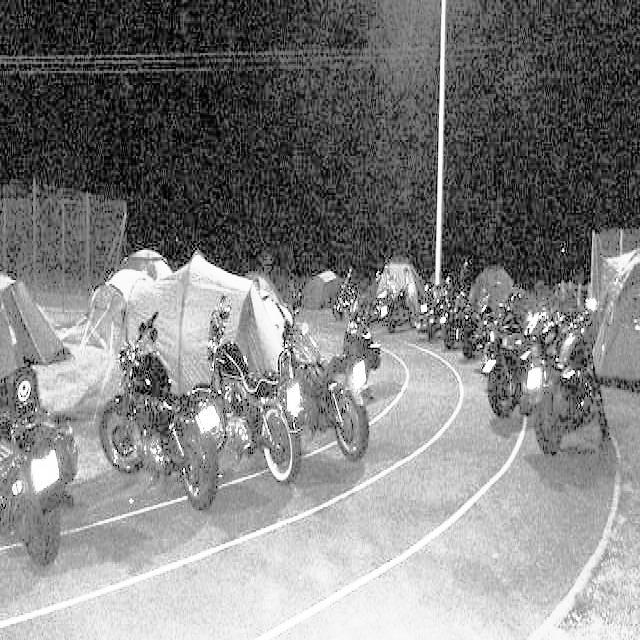Motorcycle: (88, 298, 233, 518), (188, 287, 309, 501), (273, 277, 372, 477), (4, 357, 84, 571), (531, 296, 614, 472), (485, 300, 577, 422), (458, 288, 508, 364), (439, 287, 489, 359), (377, 268, 422, 330), (333, 265, 374, 327), (420, 278, 460, 340)
